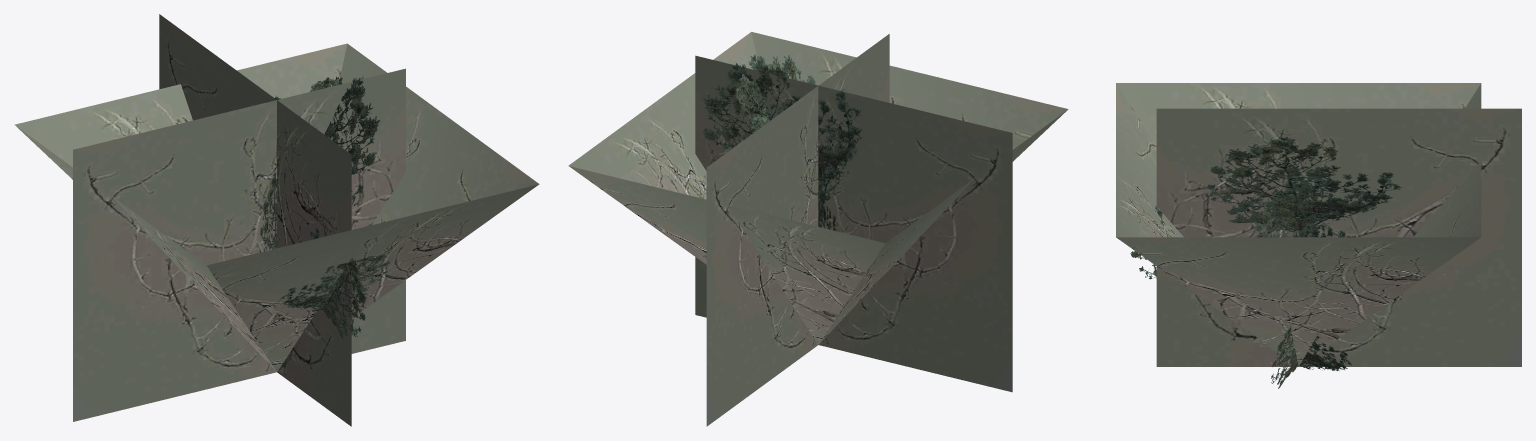
The model's file is shrb_torreypinebush_l1.fbx.
3 views of the same model, side by side, from view 1: azimuth 30°, elevation 25°; view 2: azimuth 150°, elevation 25°; view 3: azimuth 270°, elevation 25° (orthographic). The views are drawn at different scales.
Visible parts, largest first — view 1: mesh_node; view 2: mesh_node; view 3: mesh_node.
Part boxes in pixels (<box>): mesh_node: <box>14,14,539,426</box>; mesh_node: <box>568,32,1068,426</box>; mesh_node: <box>1116,83,1521,388</box>.
Size of the model in its own units: 3.59 by 3.36 by 3.72.
